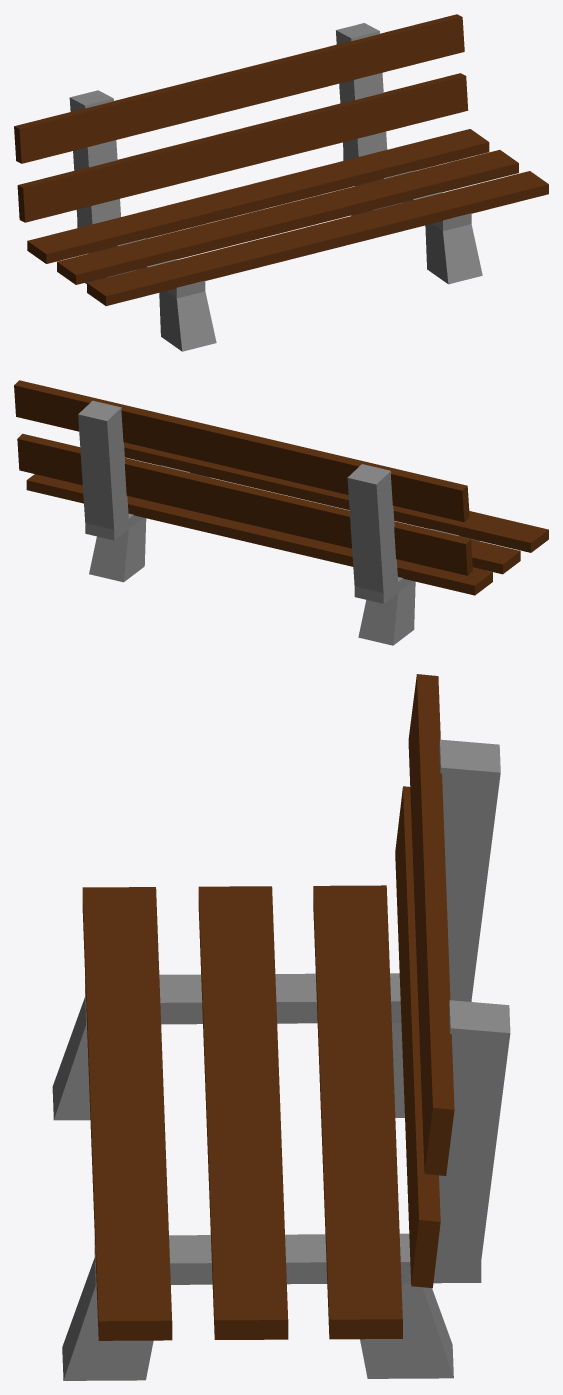
File: props_BancoPark.fbx
3 views of the same model, one above another, from view 1: azimuth 30°, elevation 25°; view 2: azimuth 150°, elevation 25°; view 3: azimuth 270°, elevation 25° (orthographic). The views are drawn at different scales.
Visible parts, largest first — view 1: Banca; view 2: Banca; view 3: Banca.
Part boxes in pixels (x1=…): Banca: x1=14, y1=14, x2=548, y2=351; Banca: x1=14, y1=380, x2=548, y2=645; Banca: x1=52, y1=674, x2=510, y2=1380.
Size of the model in its own units: 487 by 181 by 216.
